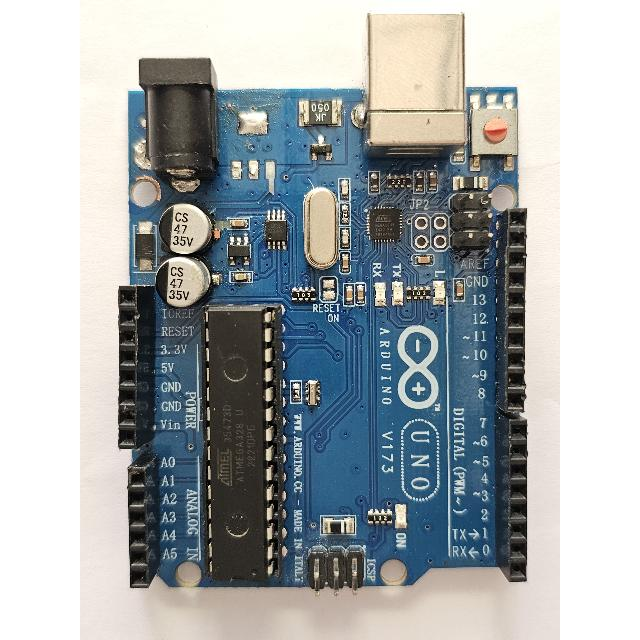missing_voltage_reg: (224, 98, 289, 200)
